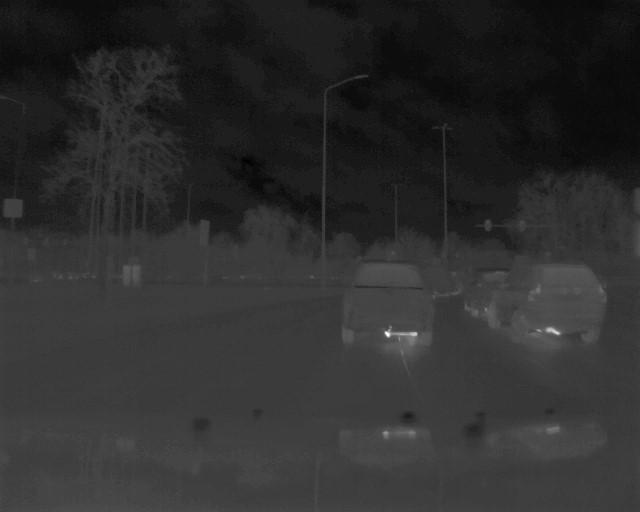car: (487, 265, 607, 347), (344, 257, 438, 349)
